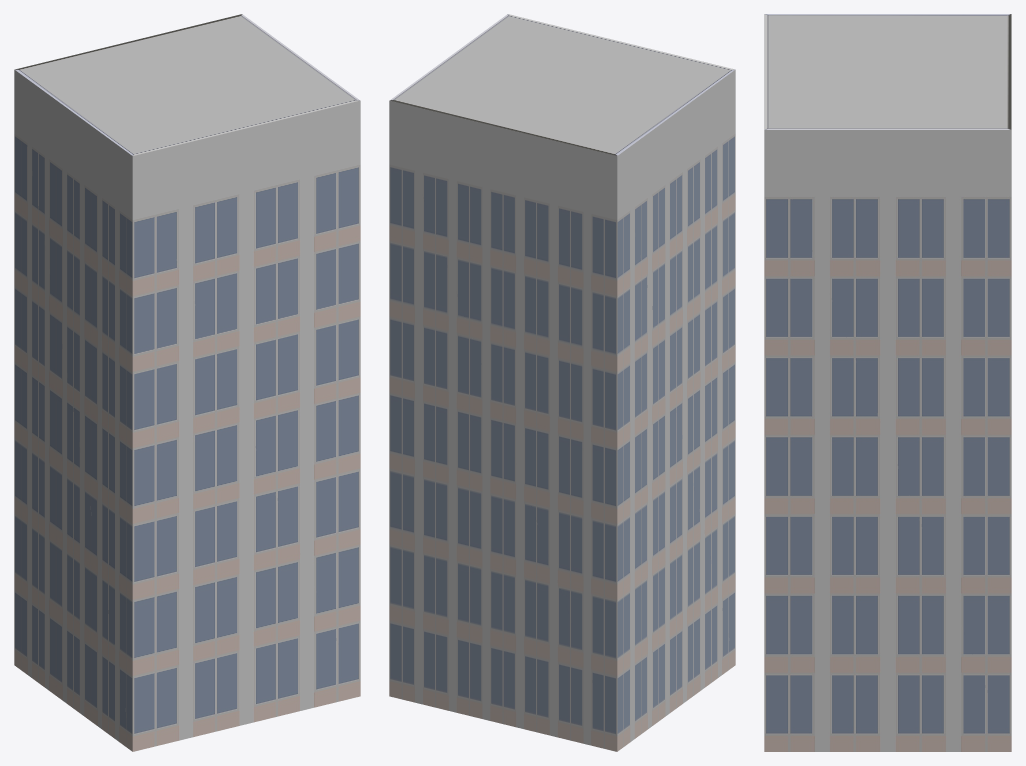
Rendered from testui12.gltf.
The picture shows the model from 3 angles, left to right: view 1: azimuth 30°, elevation 25°; view 2: azimuth 150°, elevation 25°; view 3: azimuth 270°, elevation 25°; orthographic projection. The views are drawn at different scales.
Parts seen in each view (by area): view 1: 立方体-侧面, 立方体-正面, 立方体-屋顶; view 2: 立方体-正面 (×2), 立方体-屋顶; view 3: 立方体-侧面, 立方体-屋顶.
Part boxes in pixels (x1,y1,x2,y2): 立方体-侧面: [132, 100, 360, 751]; 立方体-正面: [14, 70, 132, 751]; 立方体-屋顶: [14, 14, 359, 155]; 立方体-正面 (×2): [389, 70, 735, 751]; 立方体-屋顶: [390, 14, 735, 155]; 立方体-侧面: [764, 130, 1011, 751]; 立方体-屋顶: [764, 14, 1011, 129].
Size of the model in its own units: 180 by 450 by 162.
Materials: 3 (3 with a texture image).
